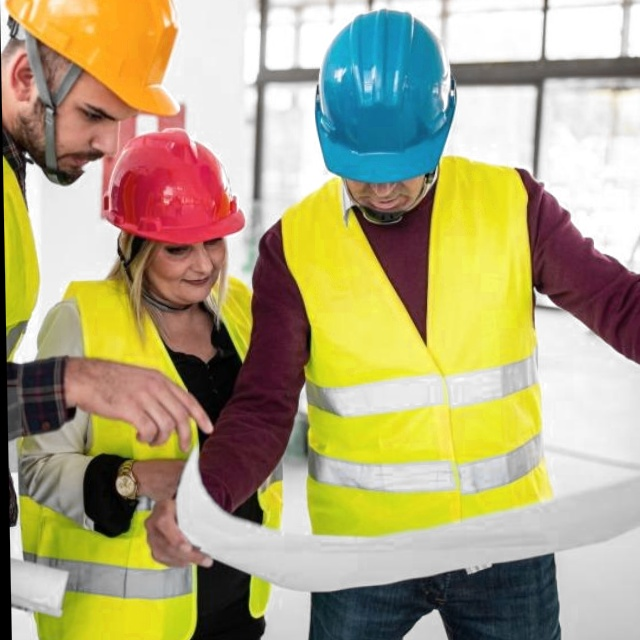Con_Casco: (311, 9, 465, 217)
Con_Chaleco: (281, 174, 557, 541)
